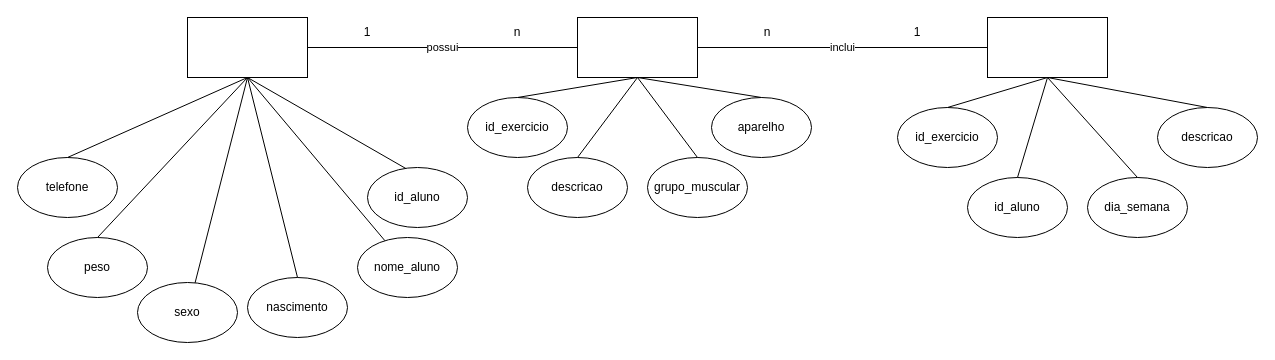
Some shapes in this 1275 by 360 pixel diagram are drawn without their labels. The shapes that lost their labels are listed below. From the top down, each one's centre as x and y in pixels, then its label:
At pixel 247 47: "alunos".
At pixel 637 47: "exercicios".
At pixel 1047 47: "planos".
